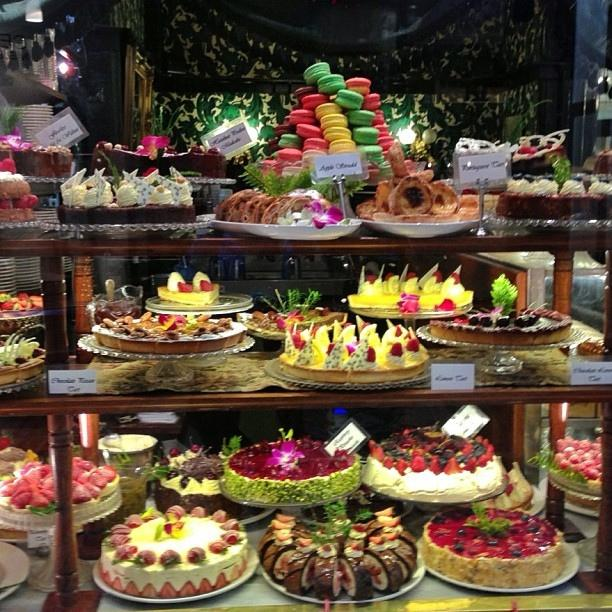strawberry: (127, 550, 157, 566), (72, 483, 92, 504), (442, 457, 463, 475), (15, 194, 40, 209), (87, 472, 108, 489), (178, 580, 197, 598), (12, 492, 32, 509), (98, 466, 116, 482), (124, 514, 144, 528), (116, 546, 137, 559), (24, 469, 40, 486), (83, 483, 101, 498), (0, 158, 16, 174), (410, 456, 426, 472), (220, 518, 240, 530), (430, 455, 442, 475), (405, 338, 420, 353), (141, 584, 157, 598), (583, 467, 600, 480), (31, 495, 49, 507), (199, 578, 212, 594), (395, 460, 408, 476), (110, 576, 122, 593), (78, 461, 96, 472), (125, 582, 139, 596), (402, 300, 418, 312), (389, 342, 402, 356), (38, 489, 54, 500), (368, 439, 377, 458), (77, 472, 90, 485), (16, 480, 30, 491), (366, 347, 376, 362), (463, 461, 475, 473), (588, 449, 600, 460), (568, 440, 580, 451), (382, 456, 392, 469), (200, 280, 213, 290), (1, 301, 14, 311), (412, 452, 423, 462), (296, 340, 306, 350), (560, 460, 570, 469), (482, 454, 493, 462), (394, 326, 402, 337), (326, 344, 334, 355), (482, 438, 490, 448), (565, 452, 574, 460), (590, 443, 600, 450), (18, 294, 29, 300), (594, 464, 602, 472), (574, 450, 584, 456), (525, 542, 537, 546)
